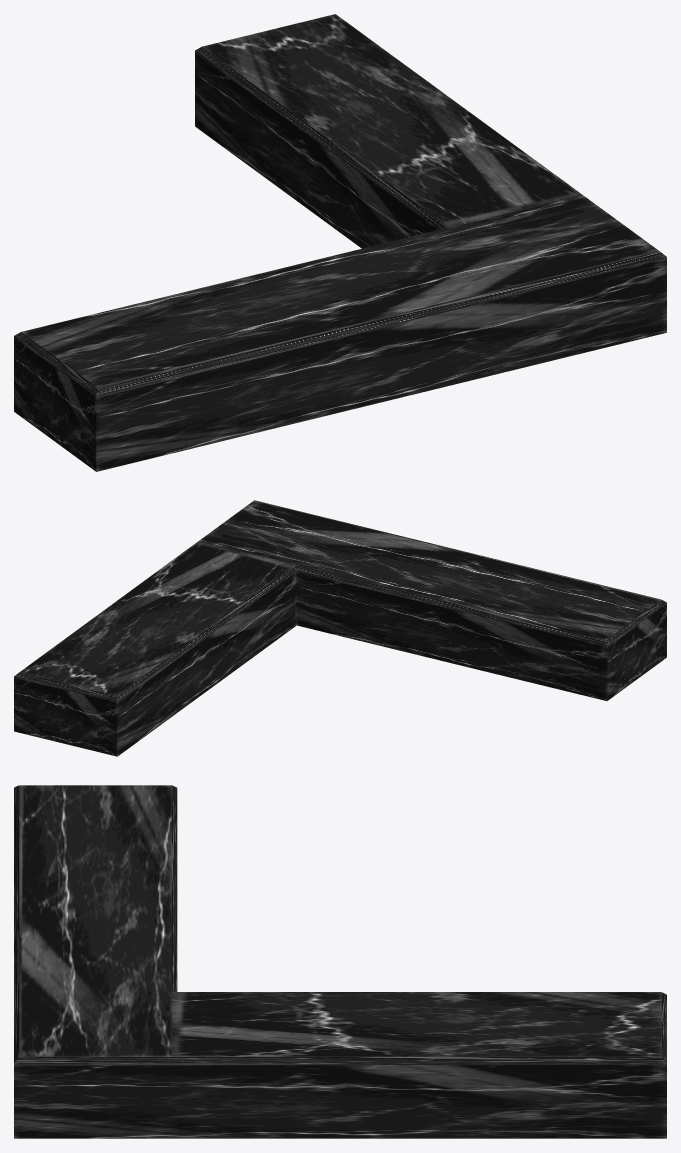
Rendered from f02-black-marble-l-corner-showcase-south-east.glb.
3 renders of one model, top to bottom at view 1: azimuth 30°, elevation 25°; view 2: azimuth 150°, elevation 25°; view 3: azimuth 270°, elevation 25°, orthographic. The views are drawn at different scales.
Visible parts, largest first — view 1: f02-black-marble-l-corner-showcase-south-east; view 2: f02-black-marble-l-corner-showcase-south-east; view 3: f02-black-marble-l-corner-showcase-south-east.
Boxes of the visible parts, x1=… form: f02-black-marble-l-corner-showcase-south-east: x1=14, y1=14, x2=666, y2=471; f02-black-marble-l-corner-showcase-south-east: x1=14, y1=500, x2=666, y2=756; f02-black-marble-l-corner-showcase-south-east: x1=14, y1=785, x2=666, y2=1138.
Bounding box in the file's own units: 1 × 0.135 × 1.
Materials: 1 (1 with a texture image).
